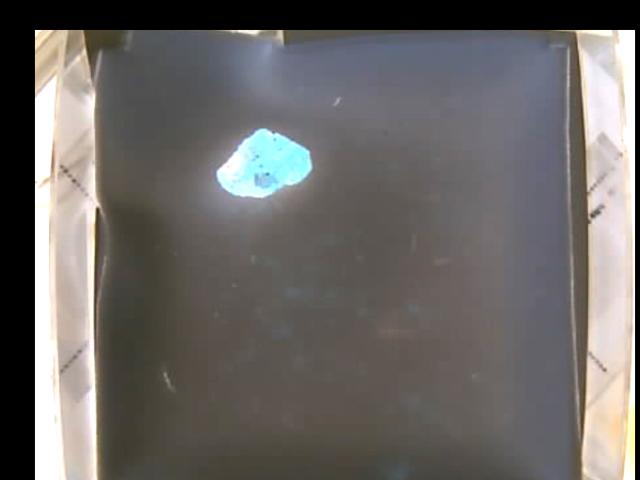Brisk: (216, 124, 315, 194)
